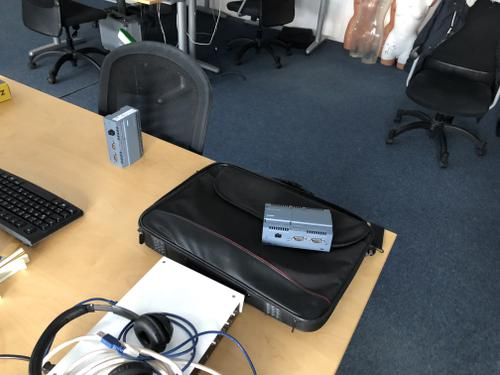device: (262, 204, 334, 252), (103, 106, 145, 169)
